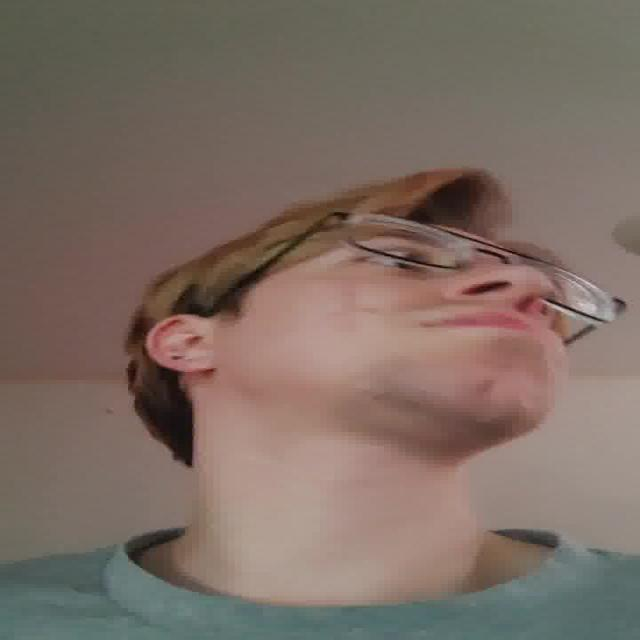earlobe: (166, 357, 217, 374)
eye: (357, 250, 431, 270)
nose: (455, 286, 547, 318)
wholeear: (148, 314, 217, 375)
